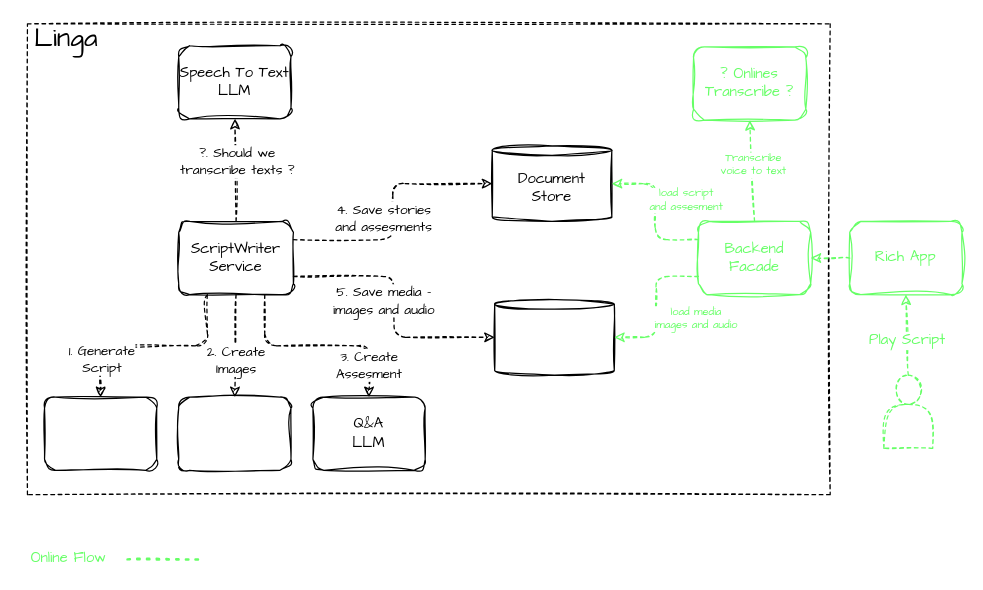
Some shapes in this 983 by 590 pixel diagram are drawn without their labels. The shapes that lost their labels are listed below. From the top down, each one's centre as x and y in pixels, then its label:
At point 553,336: "Media Store".
At point 100,433: "Storytelling LLM".
At point 234,433: "TextToImage LLM".
